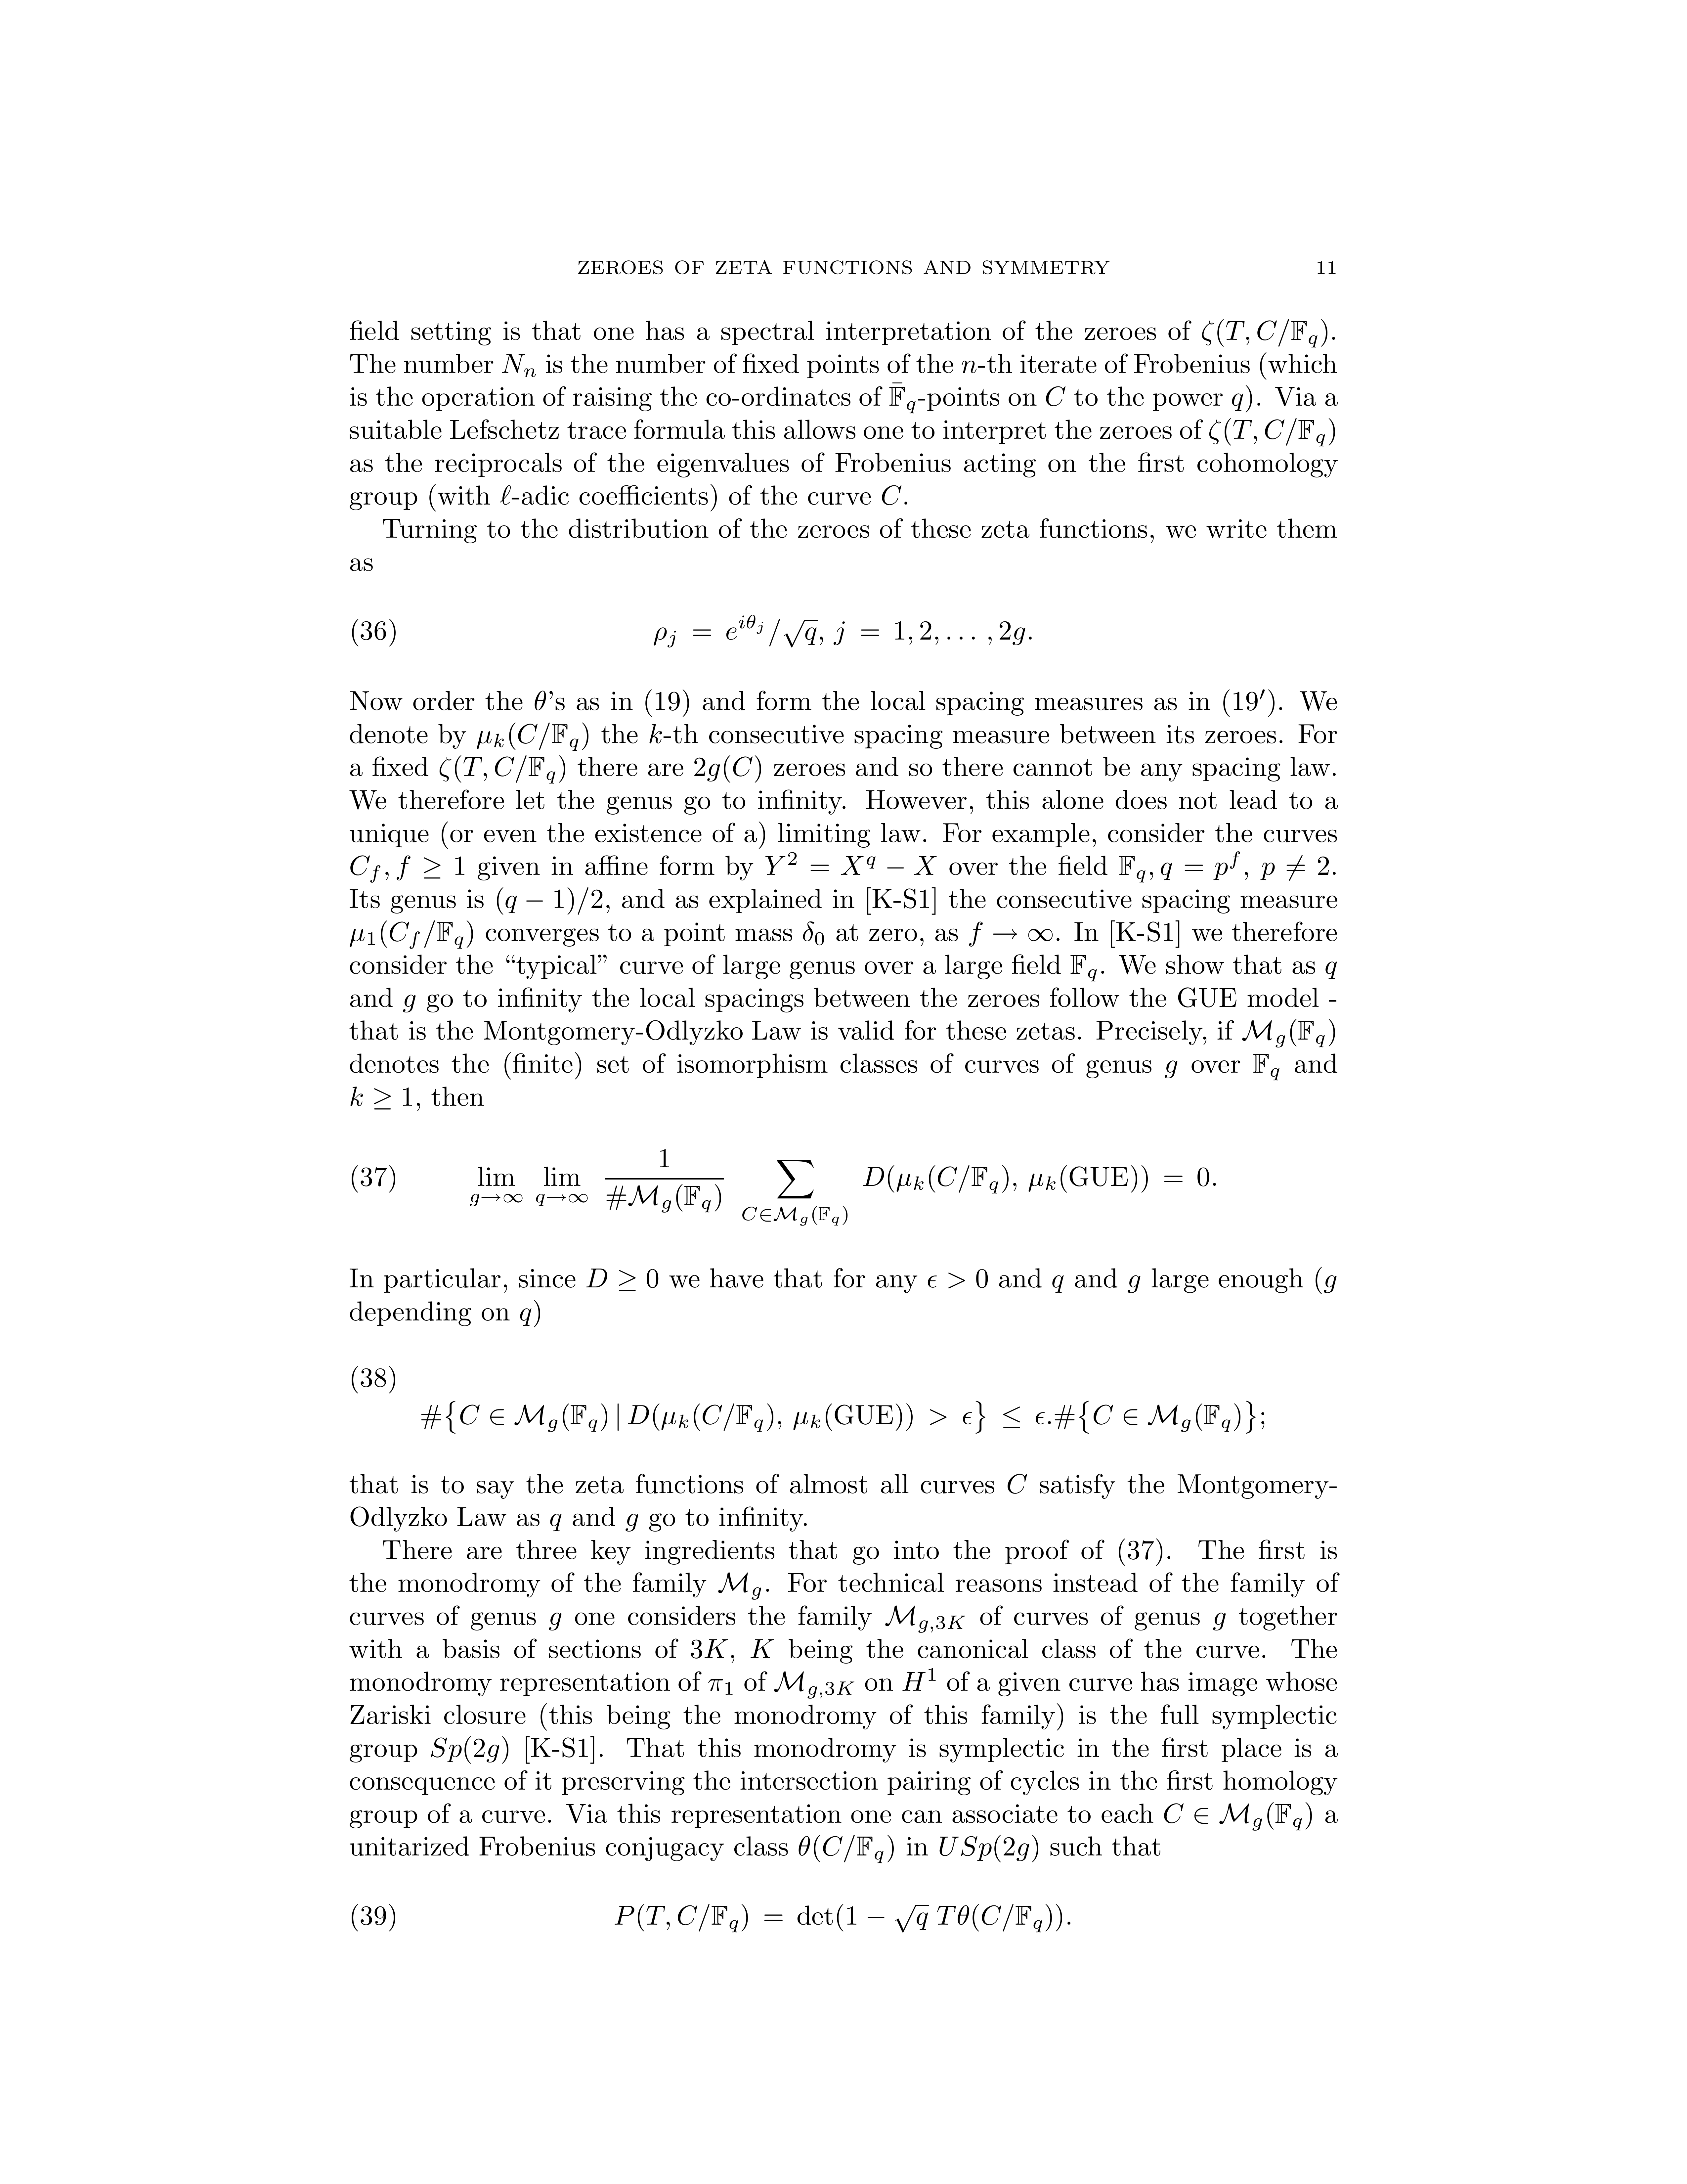maths: (470, 1149, 1015, 1225), (615, 1904, 1061, 1932), (422, 1400, 781, 1434), (930, 1400, 1255, 1434), (654, 615, 822, 647), (1164, 1803, 1311, 1829), (766, 853, 936, 874), (1201, 319, 1327, 347), (1209, 418, 1334, 447), (439, 755, 565, 784), (349, 920, 473, 948), (1030, 1165, 1148, 1193), (794, 1404, 913, 1431), (477, 723, 588, 750), (496, 888, 602, 915), (799, 1835, 893, 1863), (939, 1835, 1038, 1861), (1242, 1019, 1334, 1048), (1161, 851, 1248, 879), (833, 622, 937, 645), (431, 1735, 509, 1764), (886, 1606, 966, 1633), (774, 1672, 854, 1698), (969, 922, 1053, 947), (1260, 854, 1329, 881), (695, 755, 760, 782), (397, 856, 464, 879), (587, 1269, 657, 1291), (351, 1087, 411, 1110), (929, 1269, 987, 1289), (718, 1572, 760, 1599), (351, 854, 388, 883), (691, 1640, 734, 1663), (1118, 856, 1154, 883), (890, 383, 916, 413), (1164, 1168, 1209, 1186), (501, 355, 535, 378), (902, 1668, 936, 1691), (1253, 1053, 1279, 1080), (1070, 955, 1097, 980), (999, 622, 1024, 645), (1315, 1268, 1336, 1294), (803, 922, 824, 945), (751, 1640, 774, 1657), (1046, 386, 1065, 406), (948, 636, 991, 645), (709, 1679, 732, 1695), (882, 486, 900, 505), (1008, 1473, 1026, 1493), (402, 994, 415, 1012), (1164, 1060, 1177, 1078), (1127, 1275, 1139, 1292), (519, 1308, 532, 1326), (549, 1514, 562, 1532), (626, 1514, 638, 1532), (549, 1613, 562, 1631), (500, 486, 510, 505), (535, 691, 546, 711), (1232, 394, 1242, 411), (1325, 961, 1336, 979), (1053, 1275, 1063, 1292), (1214, 1613, 1224, 1631)
